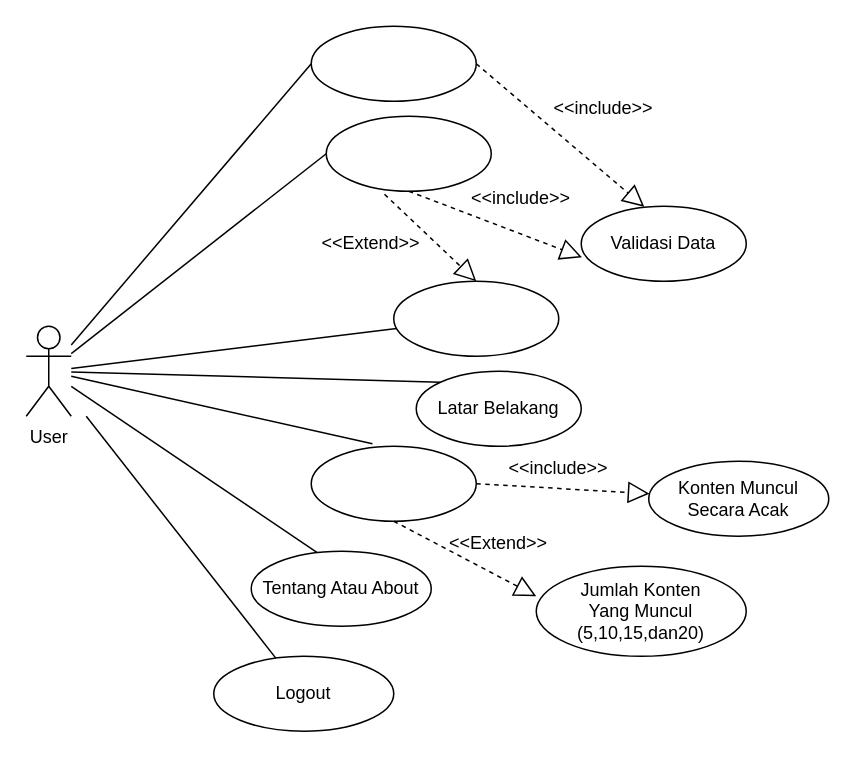
Image size: 855x758. Some labels were removed from this diagram. The shapes that lost their labels are listed below. From the top down, each one's box as (x1, y1, x2, y2) in pixels, then its label:
(310, 25, 476, 101): Daftar Akun Baru
(325, 115, 491, 191): Login Akun User
(392, 280, 559, 356): Pengisian Data Akun
(310, 445, 476, 521): Rekomendasi Konten
